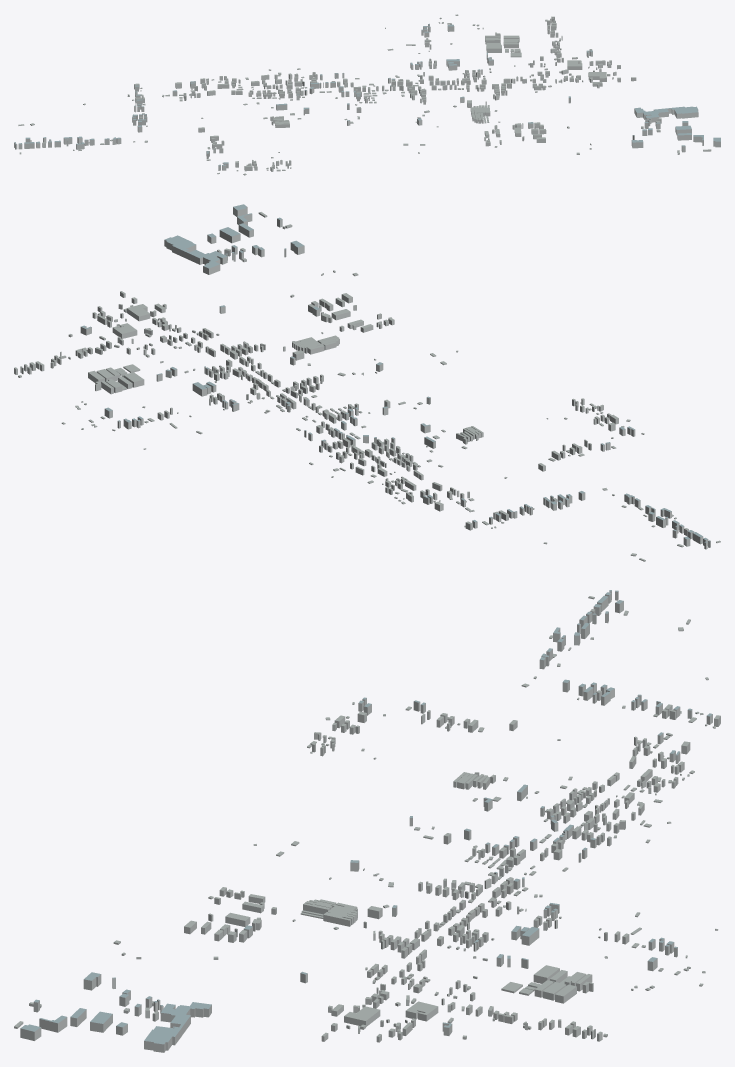
The picture shows the model from 3 angles, top to bottom: view 1: azimuth 30°, elevation 25°; view 2: azimuth 150°, elevation 25°; view 3: azimuth 270°, elevation 25°; orthographic projection. The views are drawn at different scales.
Parts seen in each view (by area): view 1: 上海全域建筑分块 · mapped building neighborhood; view 2: 上海全域建筑分块 · mapped building neighborhood; view 3: 上海全域建筑分块 · mapped building neighborhood.
Boxes of the visible parts, x1,y1,x2,y2 form: 上海全域建筑分块 · mapped building neighborhood: (14,14,720,175); 上海全域建筑分块 · mapped building neighborhood: (14,204,720,561); 上海全域建筑分块 · mapped building neighborhood: (14,590,720,1052).
Size of the model in its own units: 2141 by 23.19 by 1403.
